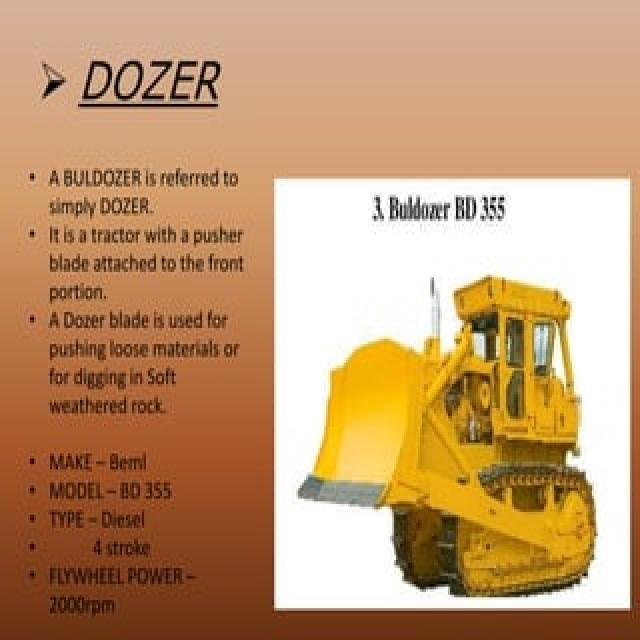buldozerpayloadergrader: (304, 278, 600, 589)
